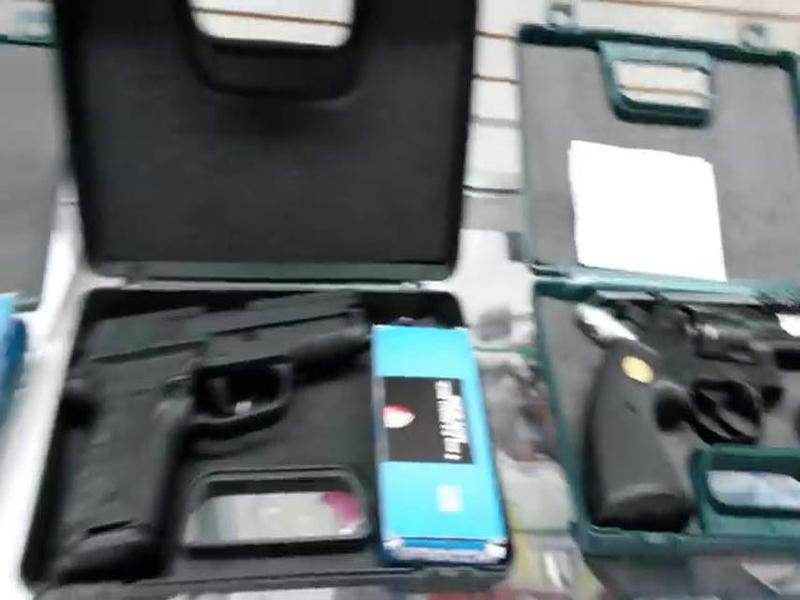Pistola: (57, 259, 384, 574)
